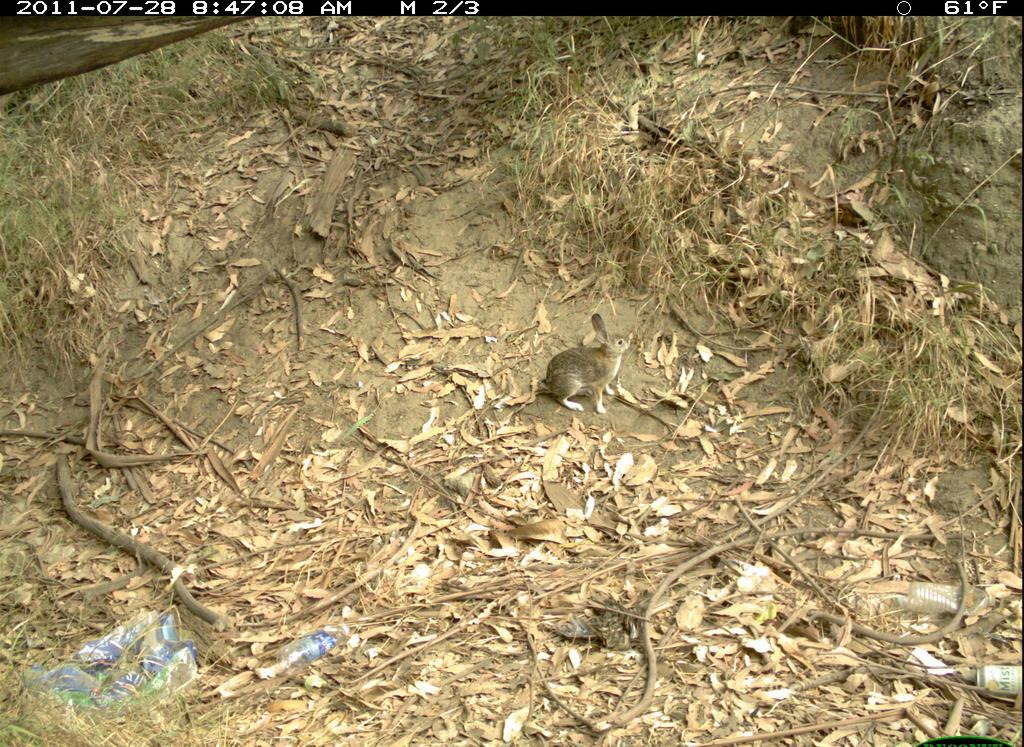rabbit: (523, 309, 648, 427)
